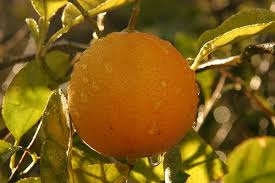orange: (66, 27, 199, 160)
